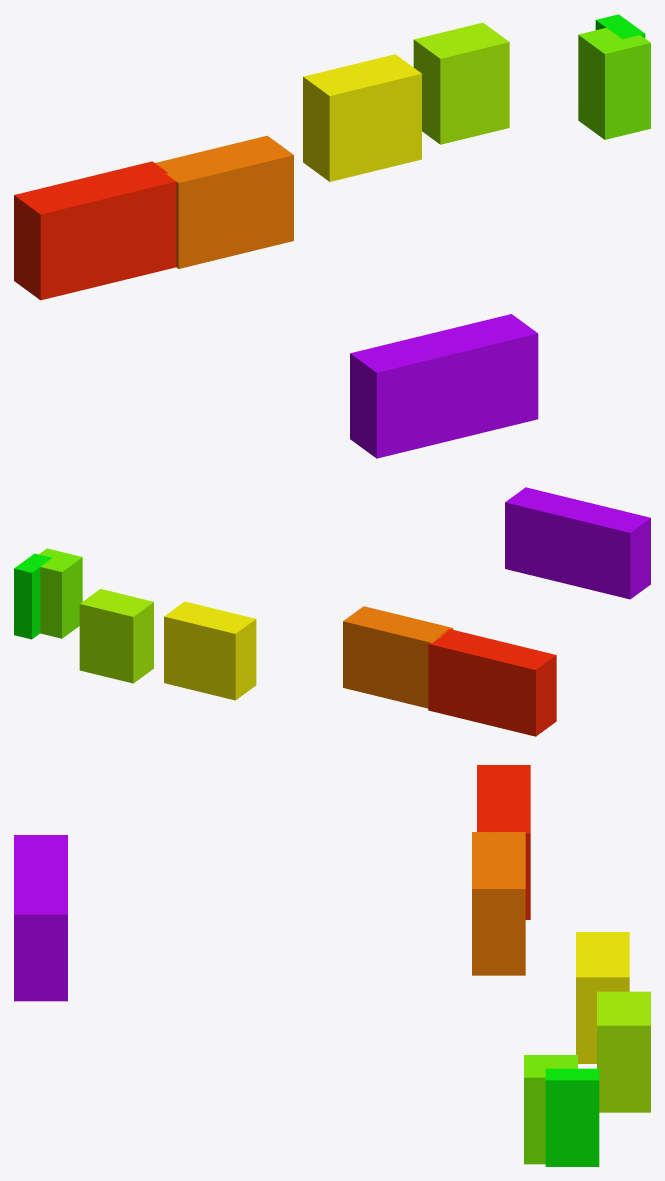
Rendered from Bina.fbx.
The picture shows the model from 3 angles, top to bottom: view 1: azimuth 30°, elevation 25°; view 2: azimuth 150°, elevation 25°; view 3: azimuth 270°, elevation 25°; orthographic projection. The views are drawn at different scales.
Parts seen in each view (by area): view 1: _7, _6, _5, _4, _3, _2, _1; view 2: _7, _6, _4, _5, _3, _2, _1; view 3: _7, _5, _3, _1, _4, _6, _2.
Boxes of the visible parts, left/top/right/bottom form: _7: left=350, top=314, right=538, bottom=458; _6: left=14, top=161, right=176, bottom=300; _5: left=155, top=135, right=293, bottom=268; _4: left=303, top=54, right=421, bottom=181; _3: left=413, top=22, right=509, bottom=144; _2: left=578, top=27, right=650, bottom=139; _1: left=595, top=14, right=645, bottom=39; _7: left=505, top=487, right=650, bottom=599; _6: left=428, top=629, right=556, bottom=736; _4: left=164, top=601, right=256, bottom=700; _5: left=343, top=606, right=453, bottom=708; _3: left=79, top=589, right=153, bottom=683; _2: left=39, top=548, right=82, bottom=638; _1: left=14, top=553, right=52, bottom=639; _7: left=14, top=835, right=67, bottom=1001; _5: left=472, top=832, right=525, bottom=975; _3: left=597, top=991, right=650, bottom=1112; _1: left=545, top=1068, right=599, bottom=1166; _4: left=576, top=932, right=629, bottom=1063; _6: left=477, top=765, right=530, bottom=919; _2: left=524, top=1055, right=577, bottom=1164.
Size of the model in its own units: 623 by 95.67 by 532.
